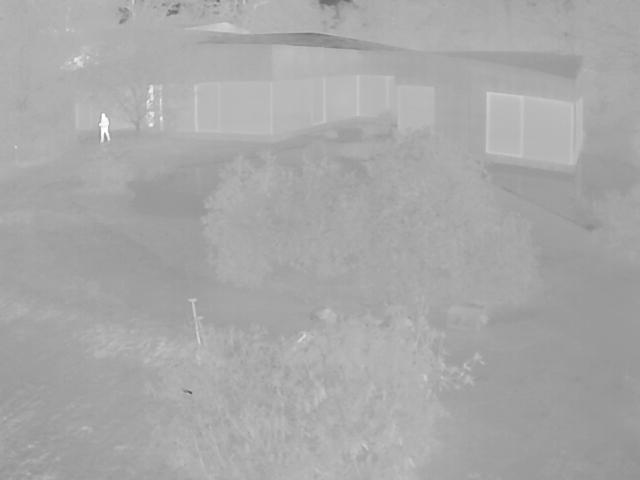person: (99, 111, 112, 142)
